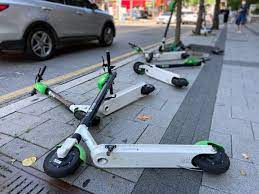fallin_kick: (43, 50, 230, 176), (34, 65, 155, 124), (133, 57, 208, 89)
kick_board: (158, 1, 184, 50)
